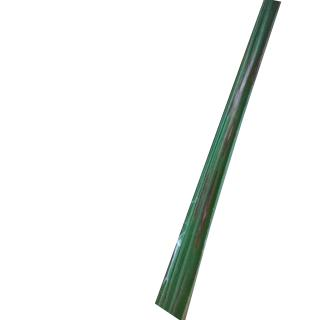Hawar-Daun: (189, 164, 222, 258), (225, 47, 259, 121), (219, 115, 239, 161), (248, 53, 263, 86)
